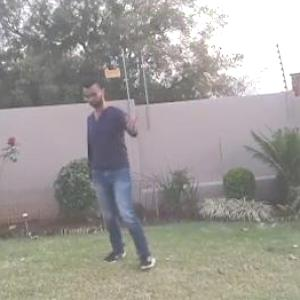takeoff-hand: (122, 98, 149, 134)
